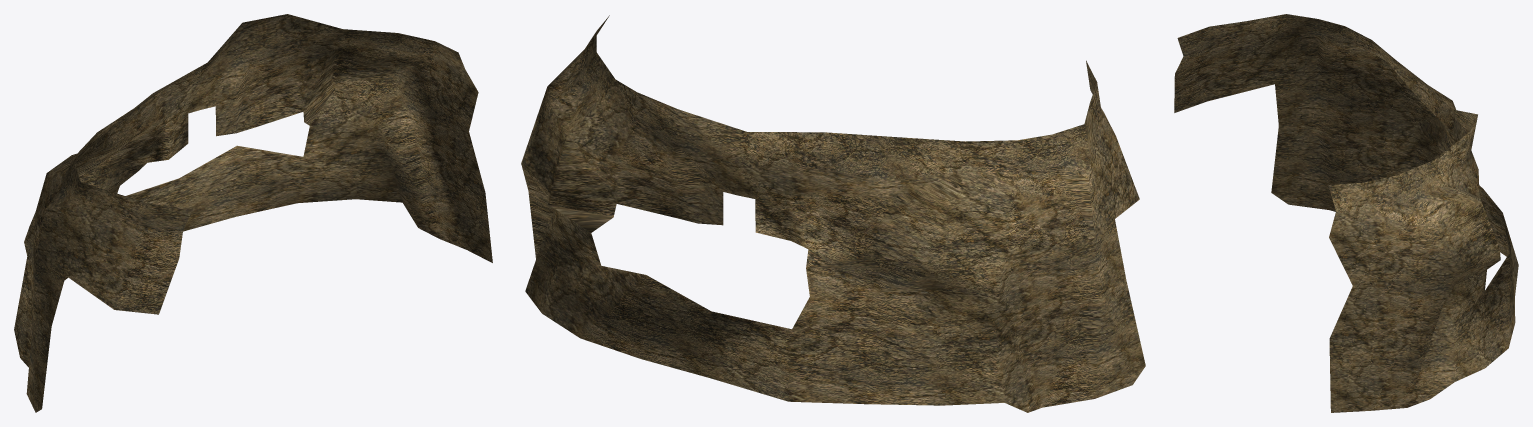
File: CH09_SMAUG_PLAYSURFACE_LONELYMOUNTAIN_LM_PLAYSURFACE23.fbx
3 renders of one model, left to right at view 1: azimuth 30°, elevation 25°; view 2: azimuth 150°, elevation 25°; view 3: azimuth 270°, elevation 25°, orthographic. The views are drawn at different scales.
Parts seen in each view (by area): view 1: CH09_SMAUG_PLAYSURFACE_LONELYMOUNTAIN_LM_PLAYSURFACE23; view 2: CH09_SMAUG_PLAYSURFACE_LONELYMOUNTAIN_LM_PLAYSURFACE23; view 3: CH09_SMAUG_PLAYSURFACE_LONELYMOUNTAIN_LM_PLAYSURFACE23.
Part boxes in pixels (x1,y1,x2,y2): CH09_SMAUG_PLAYSURFACE_LONELYMOUNTAIN_LM_PLAYSURFACE23: [14, 14, 492, 412]; CH09_SMAUG_PLAYSURFACE_LONELYMOUNTAIN_LM_PLAYSURFACE23: [521, 15, 1145, 412]; CH09_SMAUG_PLAYSURFACE_LONELYMOUNTAIN_LM_PLAYSURFACE23: [1174, 14, 1518, 412].
Size of the model in its own units: 677284 by 329325 by 437485.
1 material, 1 textured.
